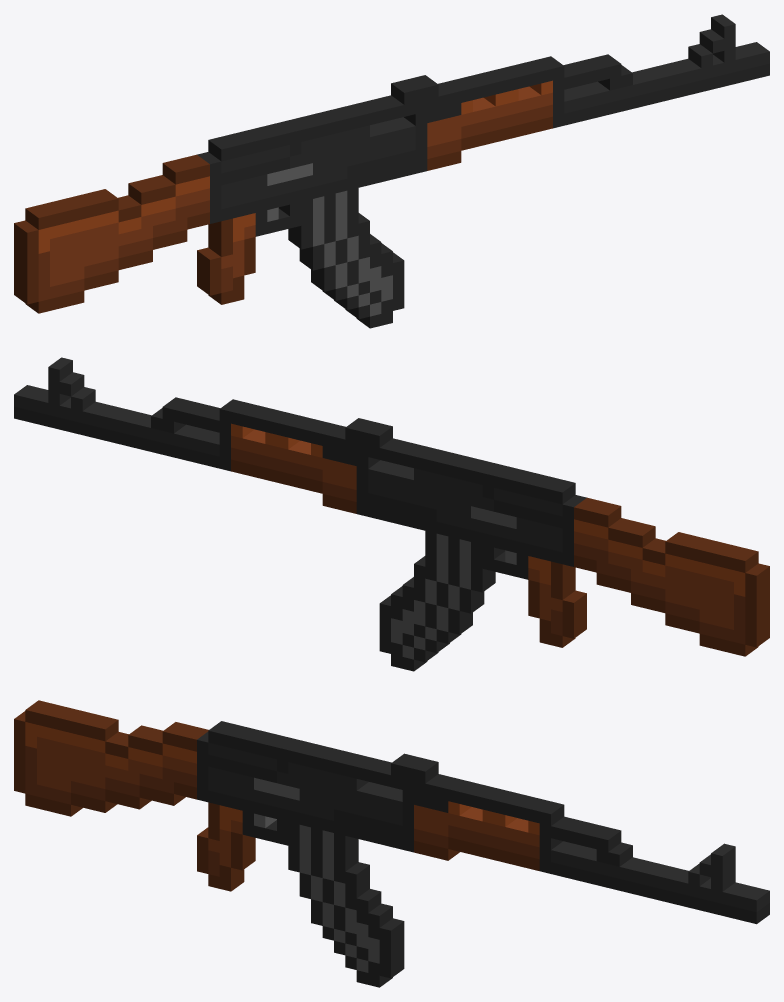
The model's file is Ak-47_Ver2.obj.
The picture shows the model from 3 angles, top to bottom: view 1: azimuth 30°, elevation 25°; view 2: azimuth 150°, elevation 25°; view 3: azimuth 330°, elevation 25°; orthographic projection.
Size of the model in its own units: 6.5 by 1.9 by 0.2.
1 material, 1 textured.
